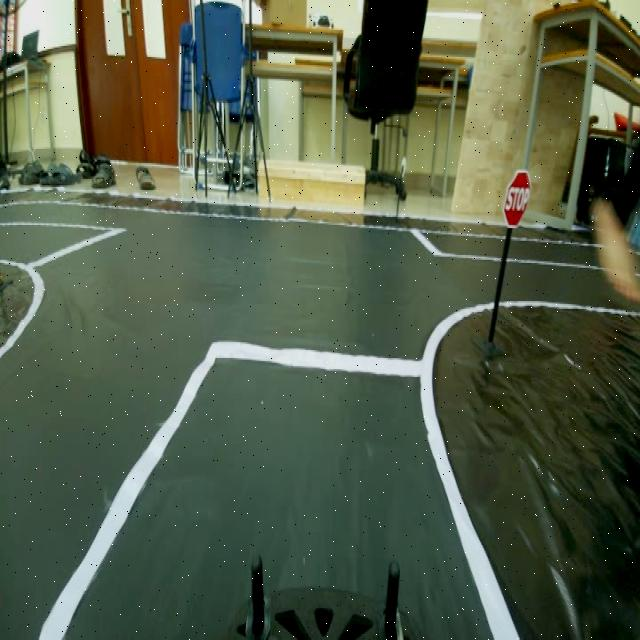stop: (503, 162, 535, 232)
